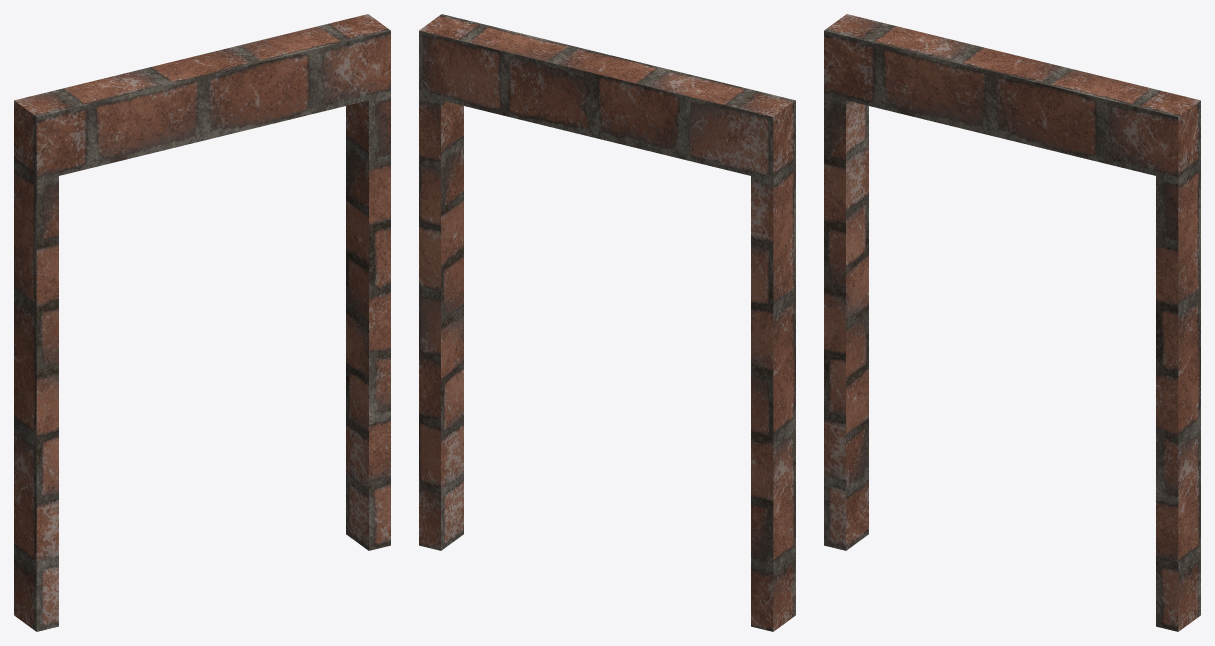
The model's file is 2doorWall.fbx.
3 views of the same model, side by side, from view 1: azimuth 30°, elevation 25°; view 2: azimuth 150°, elevation 25°; view 3: azimuth 330°, elevation 25° (orthographic).
Parts seen in each view (by area): view 1: Cube; view 2: Cube; view 3: Cube.
Part boxes in pixels (x1,y1,x2,y2): Cube: (14, 14, 390, 631); Cube: (419, 14, 795, 631); Cube: (824, 14, 1200, 631).
Size of the model in its own units: 180 by 250 by 20.
